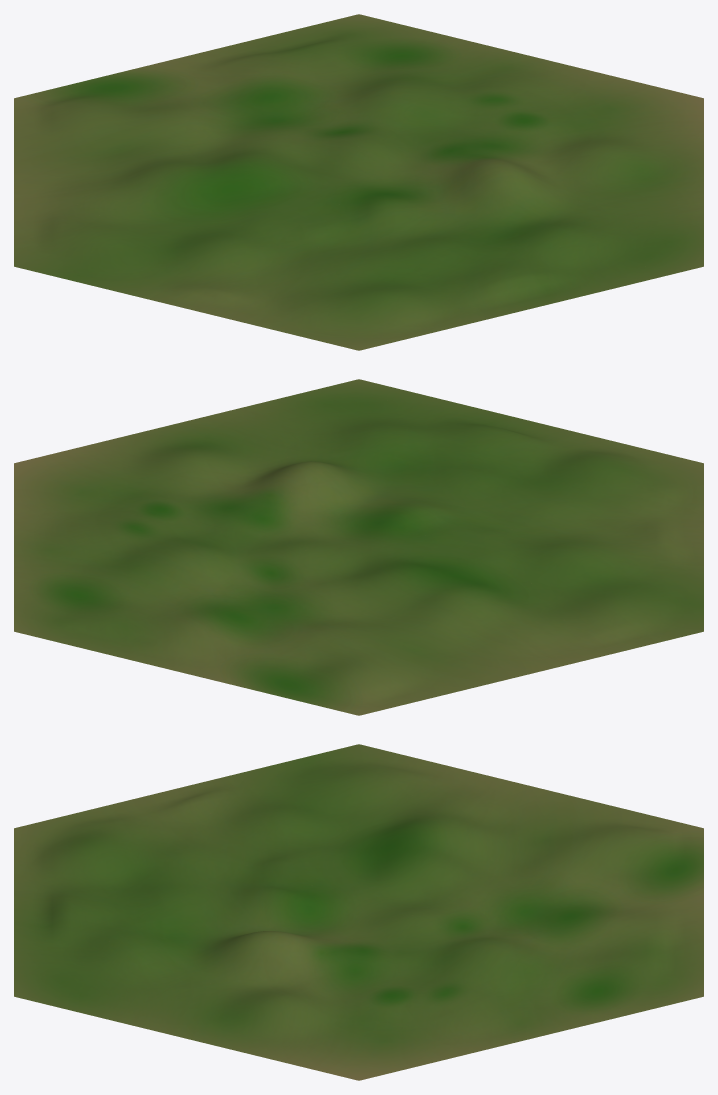
Rendered from Hills2C.glb.
3 views of the same model, one above another, from view 1: azimuth 30°, elevation 25°; view 2: azimuth 150°, elevation 25°; view 3: azimuth 270°, elevation 25° (orthographic).
Visible parts, largest first — view 1: Circle; view 2: Circle; view 3: Circle.
Part boxes in pixels (box(x1,y1,x2,y2)): Circle: box(14, 14, 703, 350); Circle: box(14, 379, 703, 715); Circle: box(14, 744, 703, 1080).
Size of the model in its own units: 400 by 13.46 by 346.
Materials: 1 (1 with a texture image).
